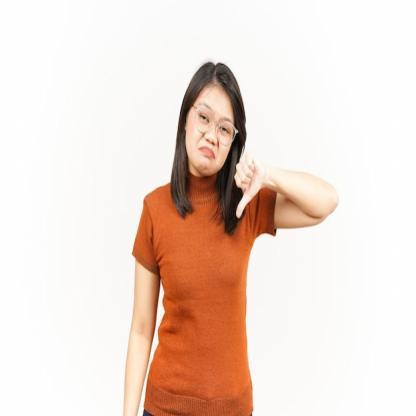thumb_down: (231, 148, 265, 220)
